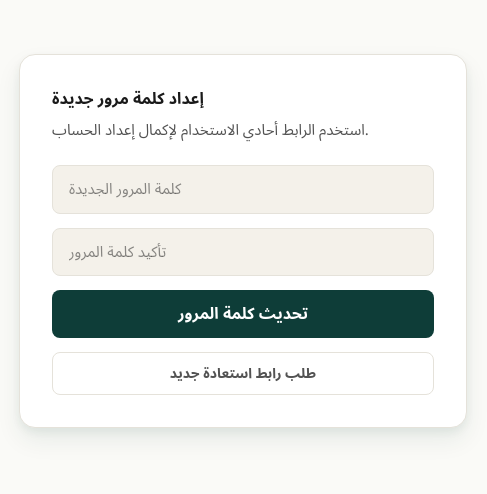
Test: ResetPasswordPage › renders an error when the reset API rejects the request
The width and height of the screenshot is (487, 494).
Type "Password123!" into the password field with placeholder "كلمة المرور الجديدة" at (243, 190), box [52, 165, 434, 214]
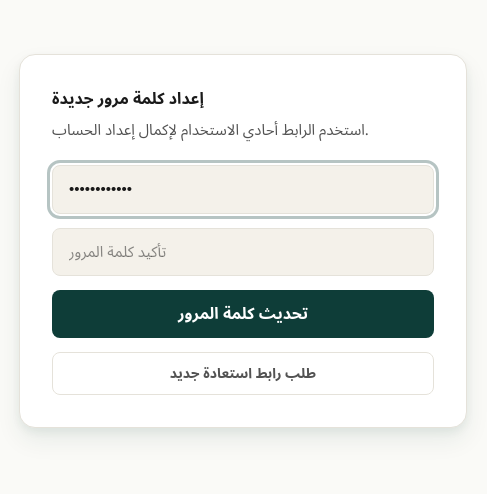
Type "Password123!" into the password field with placeholder "تأكيد كلمة المرور" at (243, 252), box [52, 228, 434, 276]
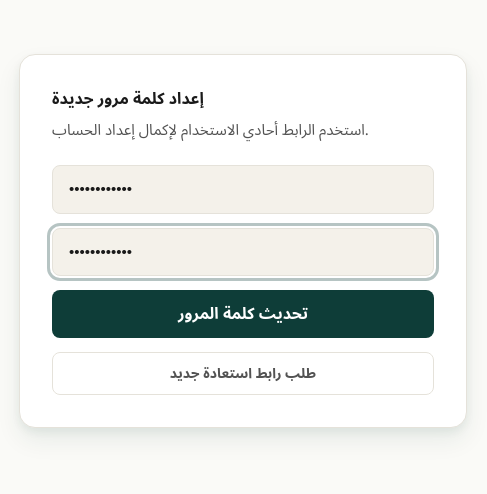
Click the button "تحديث كلمة المرور" at (243, 314), box [52, 290, 434, 338]
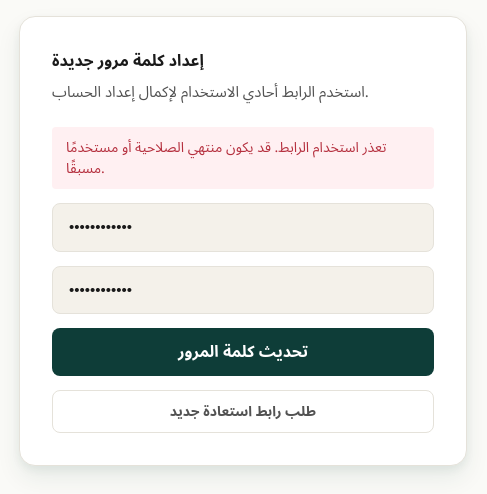
Expected: the message reads "تعذر استخدام الرابط. قد يكون منتهي الصلاحية أو مستخدمًا مسبقًا.", [66, 133, 386, 183]
